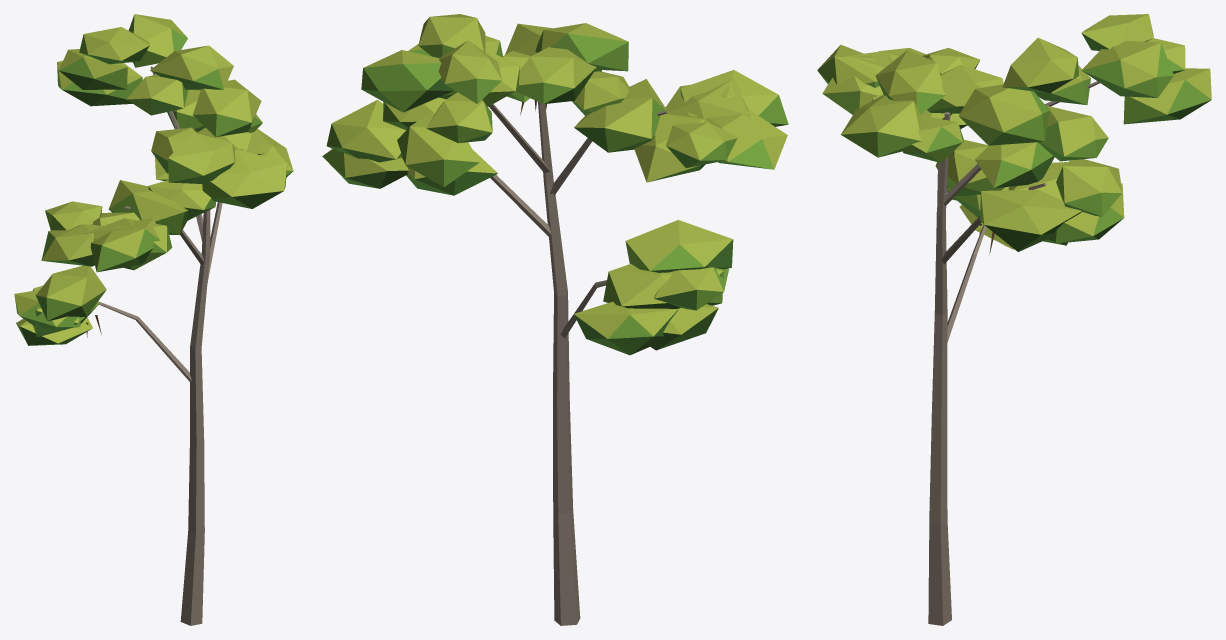
File: T05_IpilIpilTall.glb
3 renders of one model, left to right at view 1: azimuth 30°, elevation 25°; view 2: azimuth 150°, elevation 25°; view 3: azimuth 270°, elevation 25°, orthographic. The views are drawn at different scales.
Parts seen in each view (by area): view 1: T05_IpilIpilTall; view 2: T05_IpilIpilTall; view 3: T05_IpilIpilTall.
Part boxes in pixels (box(x1,y1,x2,y2)): T05_IpilIpilTall: box(14, 14, 293, 625); T05_IpilIpilTall: box(322, 14, 788, 625); T05_IpilIpilTall: box(817, 14, 1211, 625).
Bounding box in the file's own units: 3.95 × 6.66 × 3.94.
